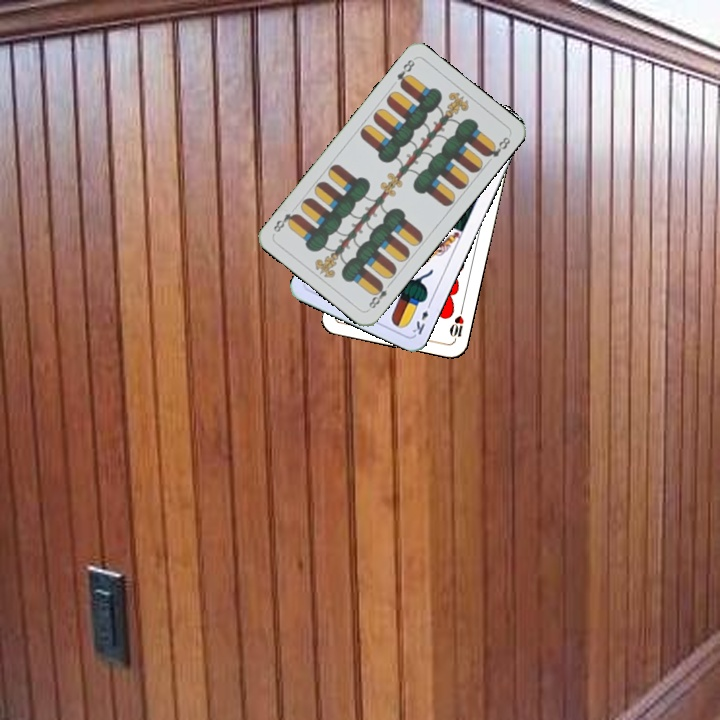E8: (364, 278, 394, 311), (393, 55, 417, 90)
EK: (408, 298, 434, 337)
H10: (446, 304, 467, 344)
